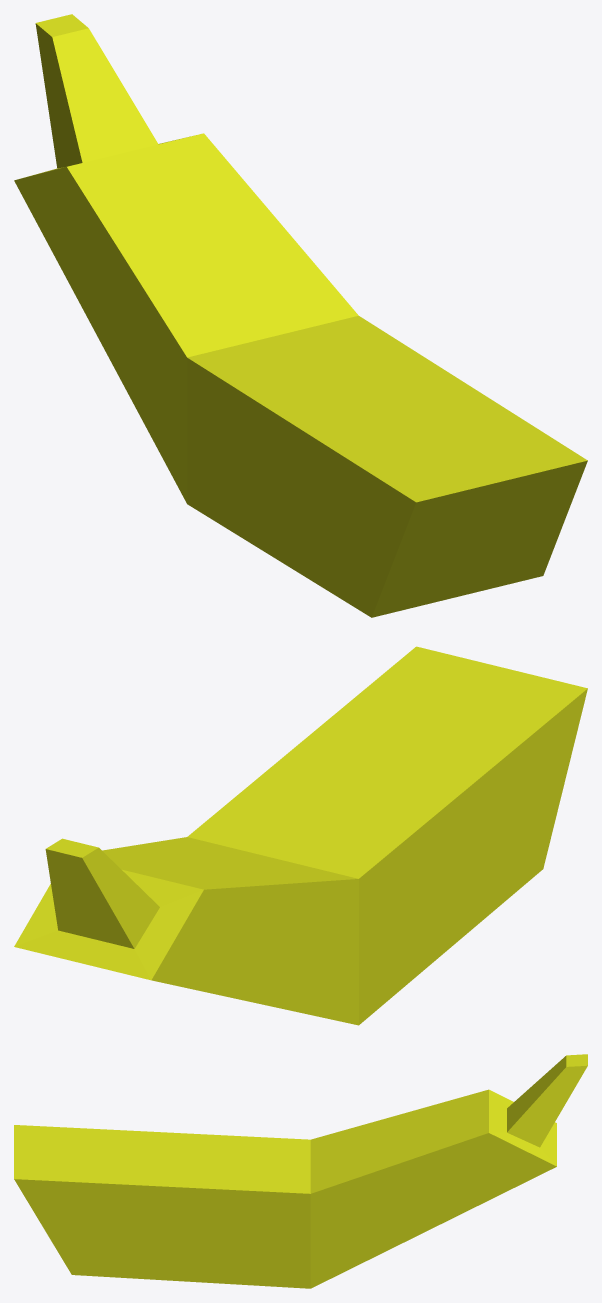
The model's file is Fruit_1.FBX.
3 renders of one model, top to bottom at view 1: azimuth 30°, elevation 25°; view 2: azimuth 150°, elevation 25°; view 3: azimuth 270°, elevation 25°, orthographic. The views are drawn at different scales.
Visible parts, largest first — view 1: Box478; view 2: Box478; view 3: Box478.
Boxes of the visible parts, x1,y1,x2,y2 form: Box478: (14,14,587,617); Box478: (14,646,587,1025); Box478: (14,1054,587,1288).
Size of the model in its own units: 19.69 by 33.87 by 88.03.
